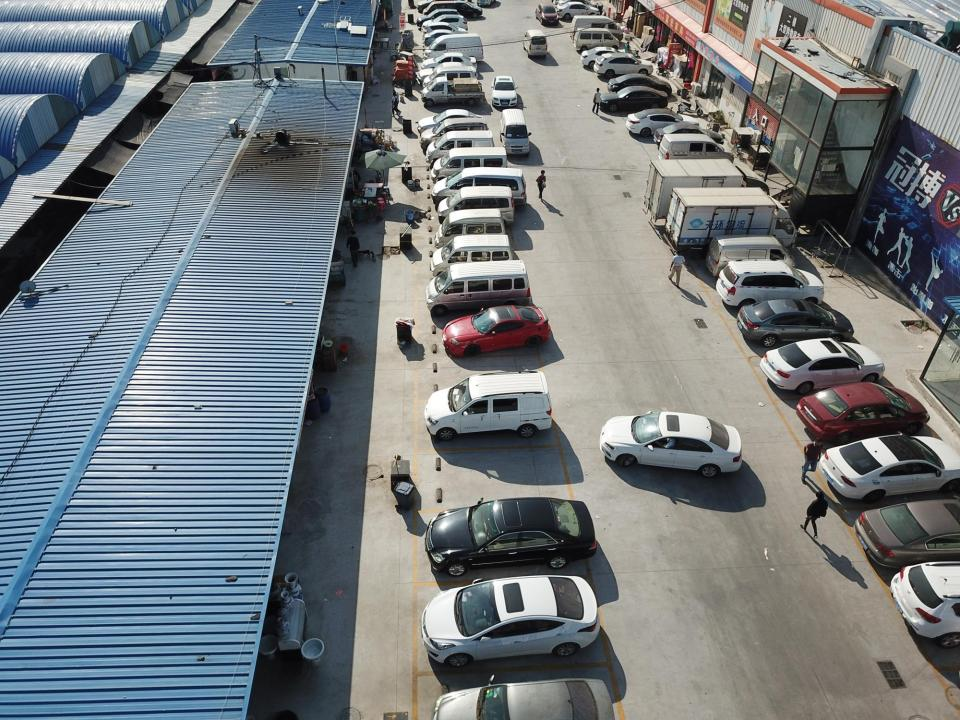car: (421, 575, 600, 666), (425, 496, 598, 575), (818, 434, 959, 502), (600, 412, 742, 476), (424, 371, 552, 440), (795, 382, 930, 446), (434, 675, 615, 719), (853, 499, 959, 568), (758, 338, 884, 394), (443, 304, 551, 357), (736, 299, 854, 346), (716, 258, 824, 308), (625, 109, 699, 136), (653, 123, 724, 149), (600, 85, 668, 112), (606, 73, 672, 96), (416, 62, 478, 86), (593, 54, 654, 78), (418, 109, 485, 130), (580, 46, 639, 68), (420, 53, 476, 71), (424, 29, 472, 48), (421, 14, 468, 33), (490, 75, 518, 106), (556, 1, 600, 20), (416, 9, 460, 27), (424, 22, 467, 40), (450, 1, 482, 18), (535, 4, 559, 25)
truck: (662, 188, 797, 253), (644, 160, 770, 226), (421, 76, 485, 106)
van: (424, 259, 531, 315), (432, 166, 526, 209), (706, 234, 796, 277), (431, 234, 514, 278), (436, 185, 514, 225), (434, 209, 506, 249), (430, 146, 507, 182), (658, 133, 734, 165), (426, 130, 493, 164), (419, 118, 488, 150), (422, 33, 483, 63), (500, 109, 532, 155), (570, 15, 623, 40), (422, 66, 474, 90), (573, 28, 620, 51), (523, 29, 548, 56), (423, 0, 456, 16)
